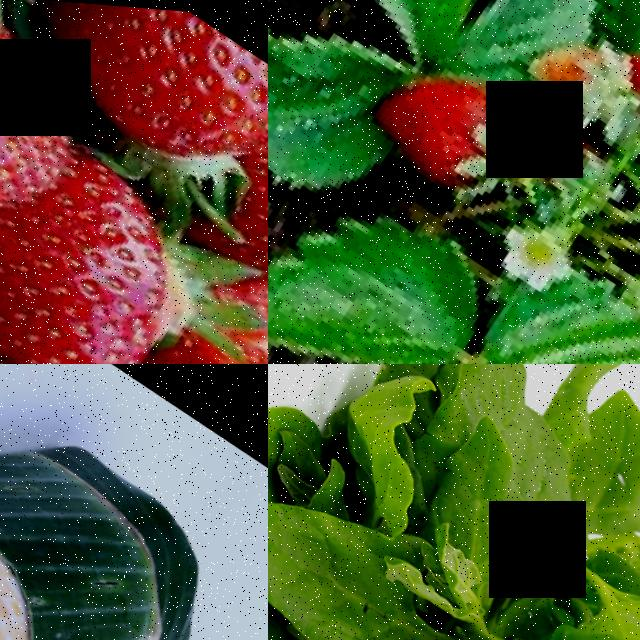spinach: (407, 404, 599, 588), (268, 445, 414, 640), (305, 364, 477, 522), (420, 364, 616, 470), (541, 365, 640, 538), (497, 589, 640, 640)
strawberry: (0, 140, 229, 364), (0, 0, 268, 185), (363, 41, 546, 211), (0, 0, 56, 224), (228, 128, 268, 313)
tempeh: (0, 465, 95, 640)
